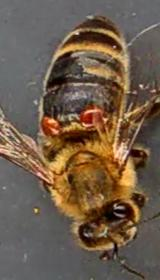varroa_mite: (74, 104, 108, 126), (39, 115, 68, 136)
